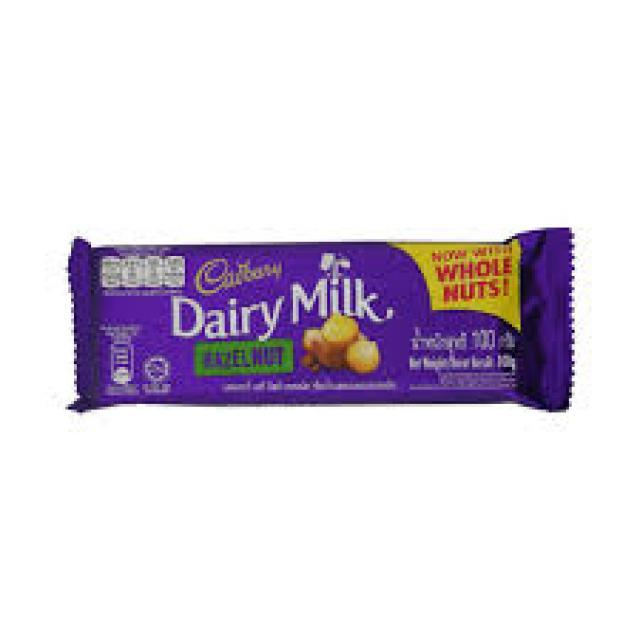cadbury_chocolate: (69, 227, 618, 468)
